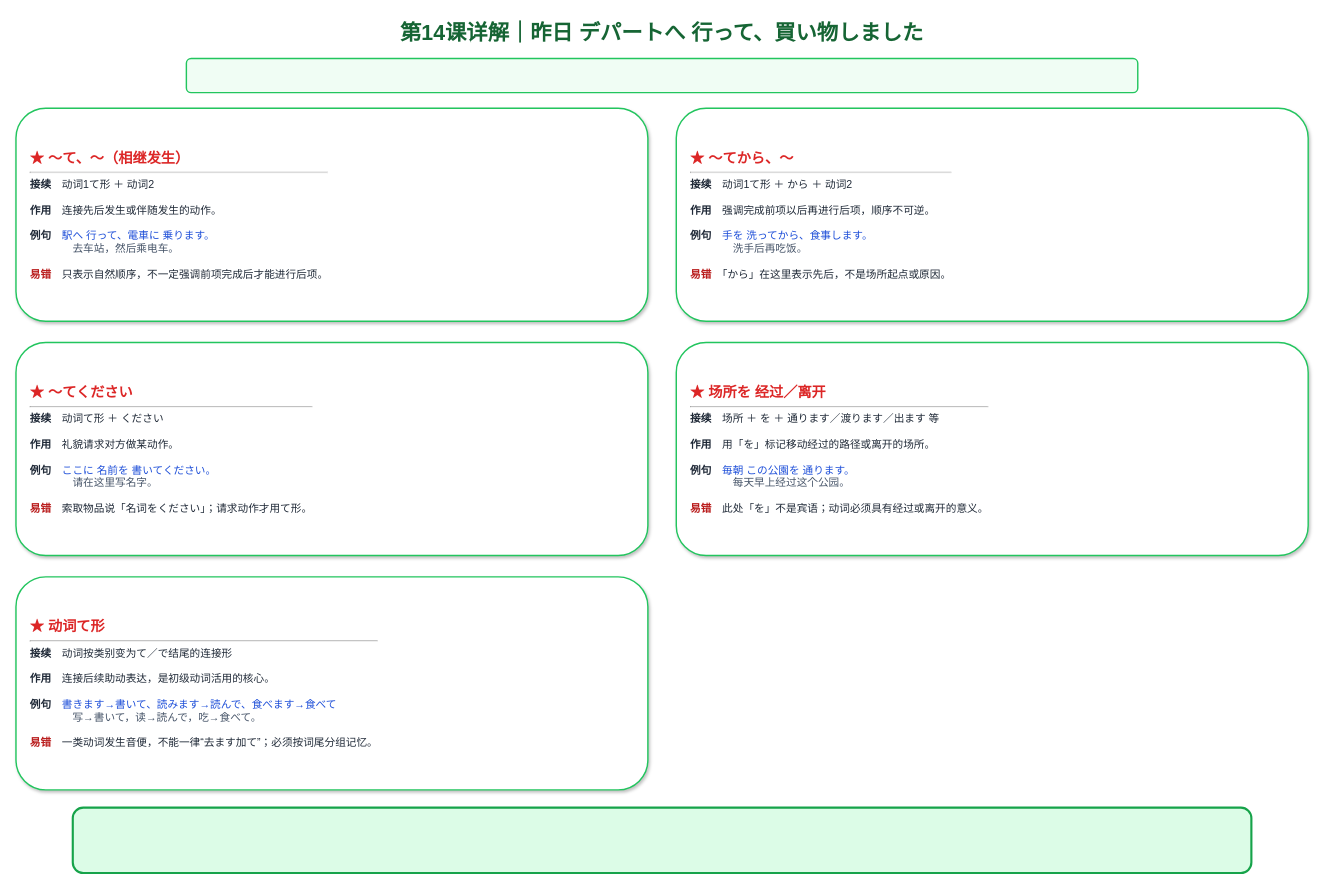
This 1325x886 diagram has some shape labels left out. Each missing label, with the centre of its shape:
"本课目标：掌握动词て形，并用它连接动作、表达先后、请求和移动路径。" belongs at pixel 661 75.
"本课结构关系 て形是后续大量语法的连接平台；本课先建立“变形准确＋语义顺序”两项能力。 最低掌握标准 任给一个常用动词，能快速说出て形，并造出顺序句和请求句。" belongs at pixel 661 840.
